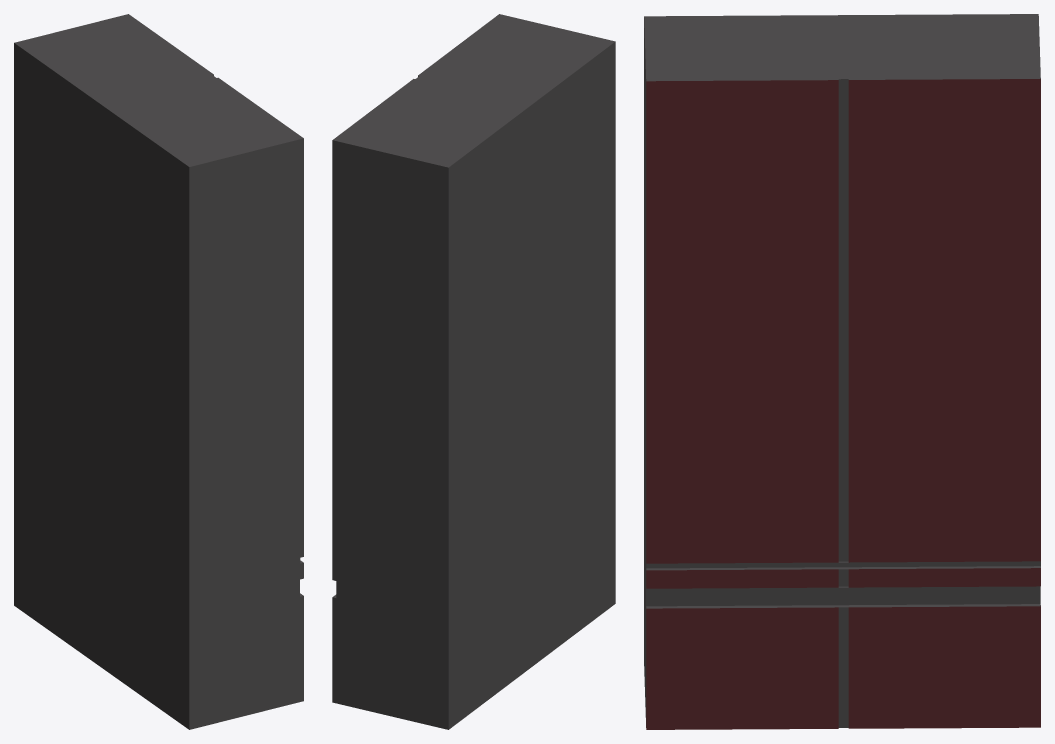
File: armario.fbx
3 views of the same model, side by side, from view 1: azimuth 30°, elevation 25°; view 2: azimuth 150°, elevation 25°; view 3: azimuth 270°, elevation 25° (orthographic). The views are drawn at different scales.
Visible parts, largest first — view 1: Cube.006; view 2: Cube.006; view 3: Cube.006.
Boxes of the visible parts, x1,y1,x2,y2 form: Cube.006: (14,14,303,729); Cube.006: (332,14,615,729); Cube.006: (644,14,1040,729).
Bounding box in the file's own units: 207 × 932 × 516.
